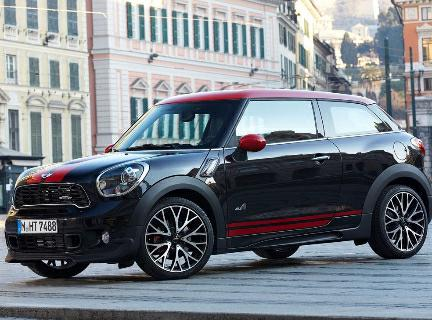MINI-JCWPACEMAN: (21, 59, 428, 281)
